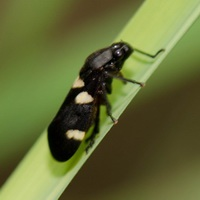insect: (48, 41, 164, 161)
